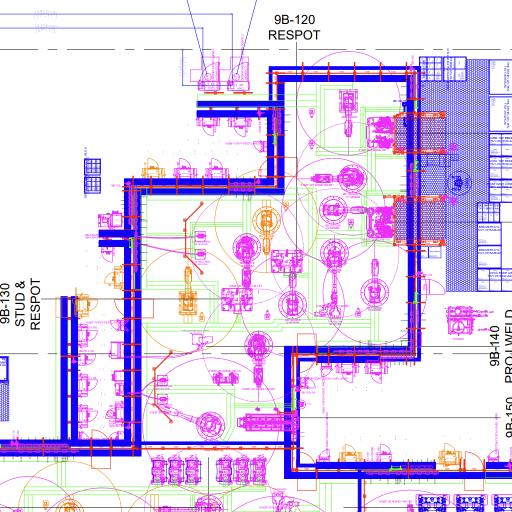robot: (157, 402, 229, 439), (228, 229, 265, 293), (318, 234, 350, 307), (308, 162, 372, 197), (358, 255, 392, 311), (172, 261, 203, 321), (244, 327, 274, 389), (331, 86, 365, 140), (277, 270, 311, 324)
